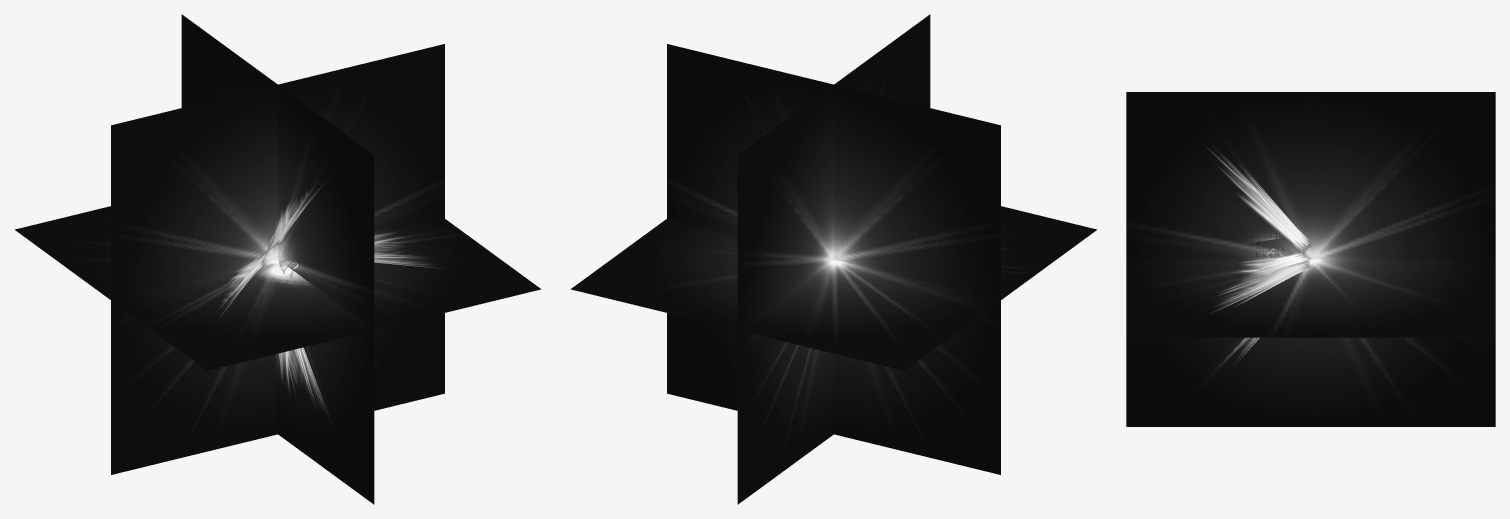
Rendered from si_eos_6200.glb.
The picture shows the model from 3 angles, left to right: view 1: azimuth 30°, elevation 25°; view 2: azimuth 150°, elevation 25°; view 3: azimuth 270°, elevation 25°; orthographic projection. The views are drawn at different scales.
Parts seen in each view (by area): view 1: layer_00_si_est_0000, layer_04_si_est_0500, layer_05_si_est_0500, layer_06_si_est_0500, layer_02_si_est_0103; view 2: layer_00_si_est_0000; view 3: layer_00_si_est_0000, layer_04_si_est_0500, layer_05_si_est_0500, layer_06_si_est_0500, layer_02_si_est_0103.
Boxes of the visible parts, x1,y1,x2,y2 form: layer_00_si_est_0000: (15,14,540,504); layer_04_si_est_0500: (218,184,414,393); layer_05_si_est_0500: (222,194,413,394); layer_06_si_est_0500: (218,182,444,418); layer_02_si_est_0103: (255,245,315,288); layer_00_si_est_0000: (571,14,1096,504); layer_00_si_est_0000: (1126,92,1495,426); layer_04_si_est_0500: (1228,160,1310,356); layer_05_si_est_0500: (1229,175,1310,366); layer_06_si_est_0500: (1204,145,1310,374); layer_02_si_est_0103: (1236,228,1294,258).
Bounding box in the file's own units: 320 × 320 × 320.
Materials: 6 (6 with a texture image).
